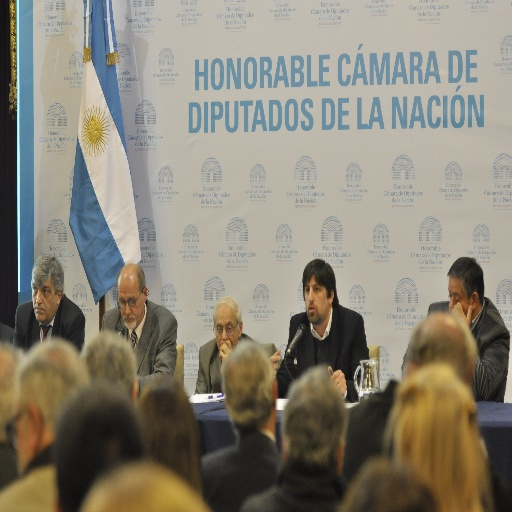hand: (327, 366, 347, 400), (452, 303, 472, 326), (266, 348, 280, 379), (217, 341, 231, 358)
